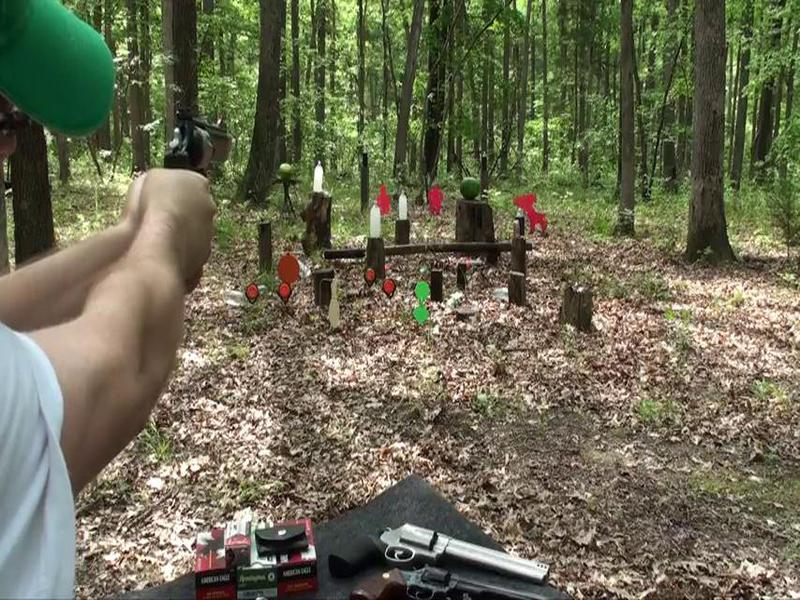Revolver: (150, 104, 253, 222)
